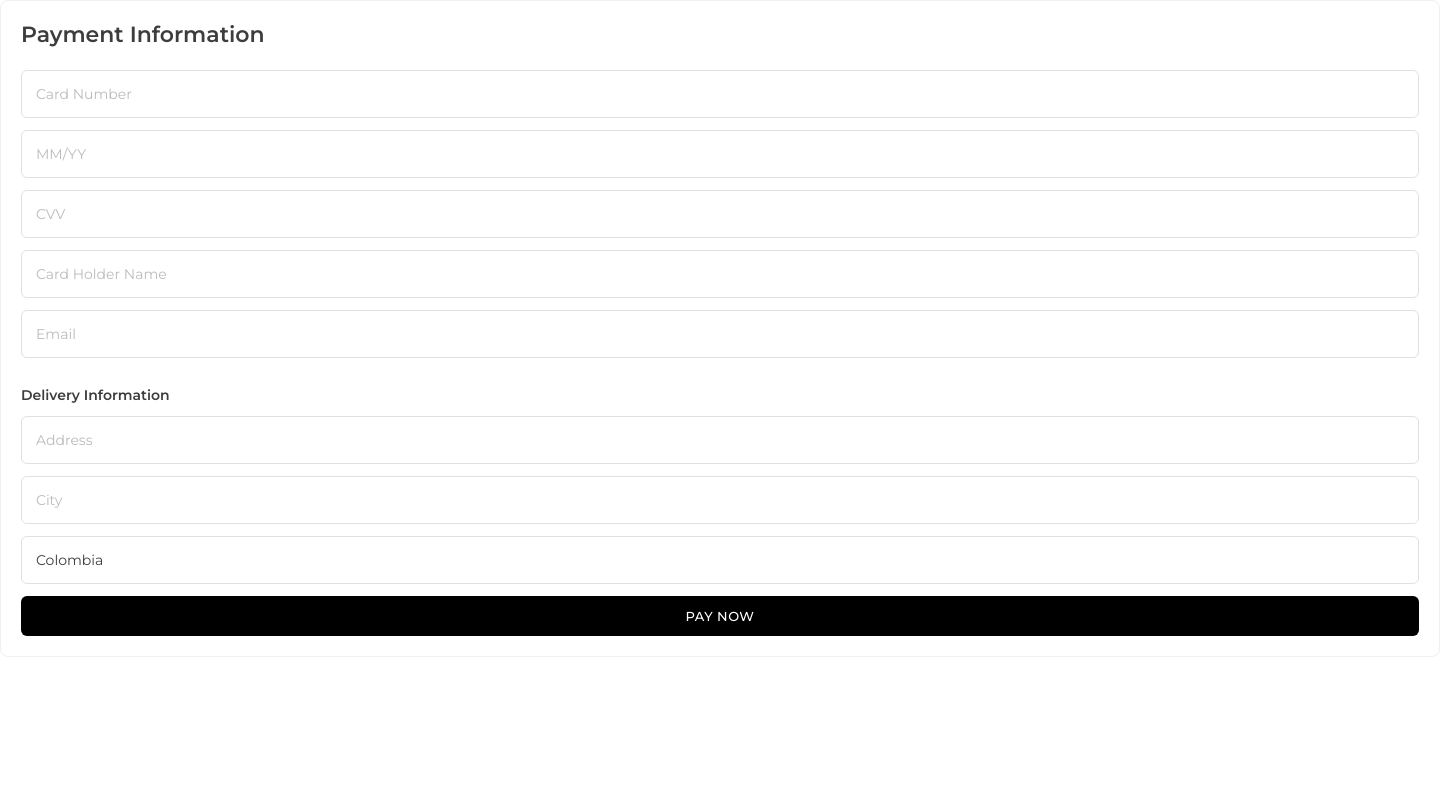
StepCardDelivery › shows Visa logo for cards starting with 4
Type "4111" into the field with placeholder "Card Number".
click(720, 94); type("4111")  # box [21,70,1419,118]
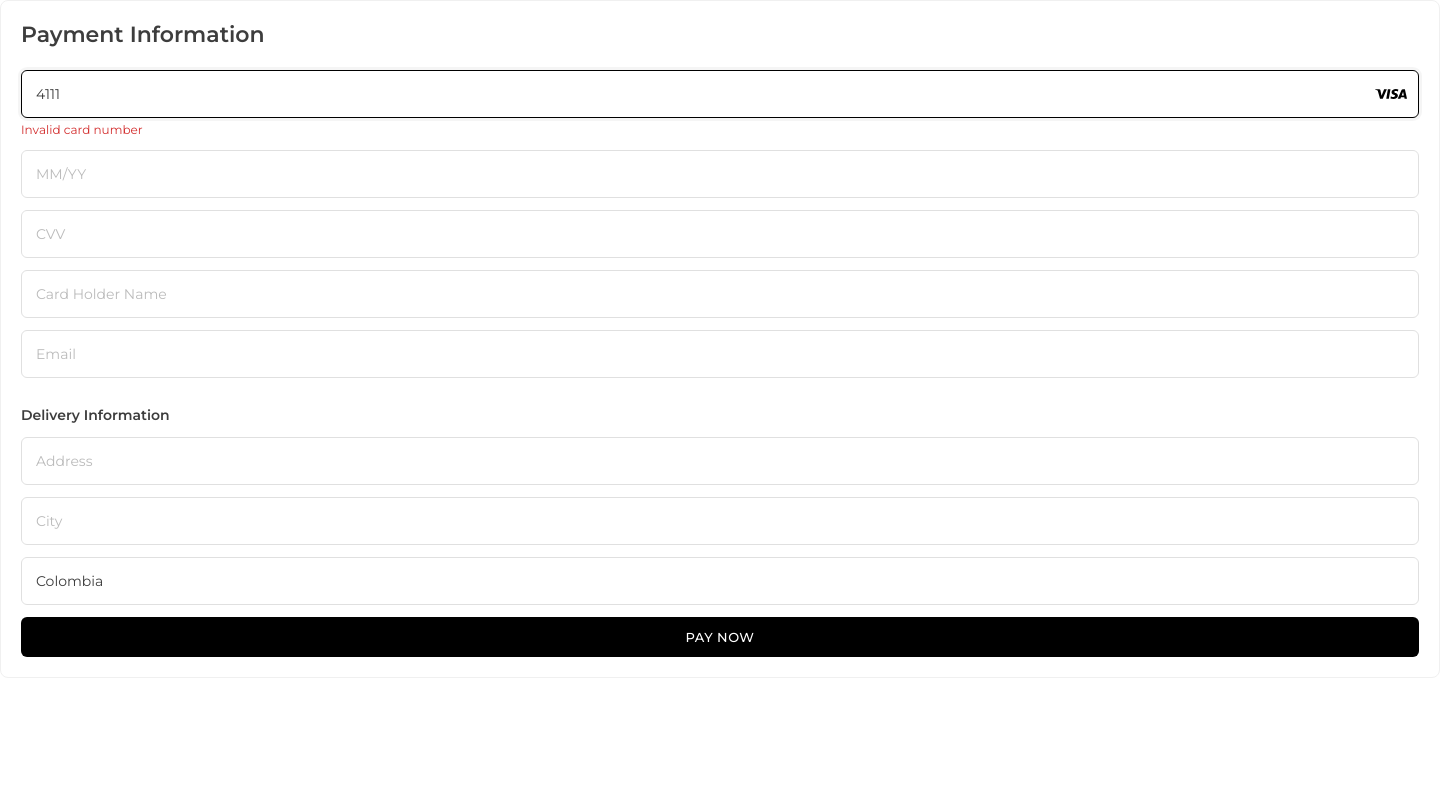
Expected: the picture with alt text "Visa" is shown, [1375,78,1407,110]
